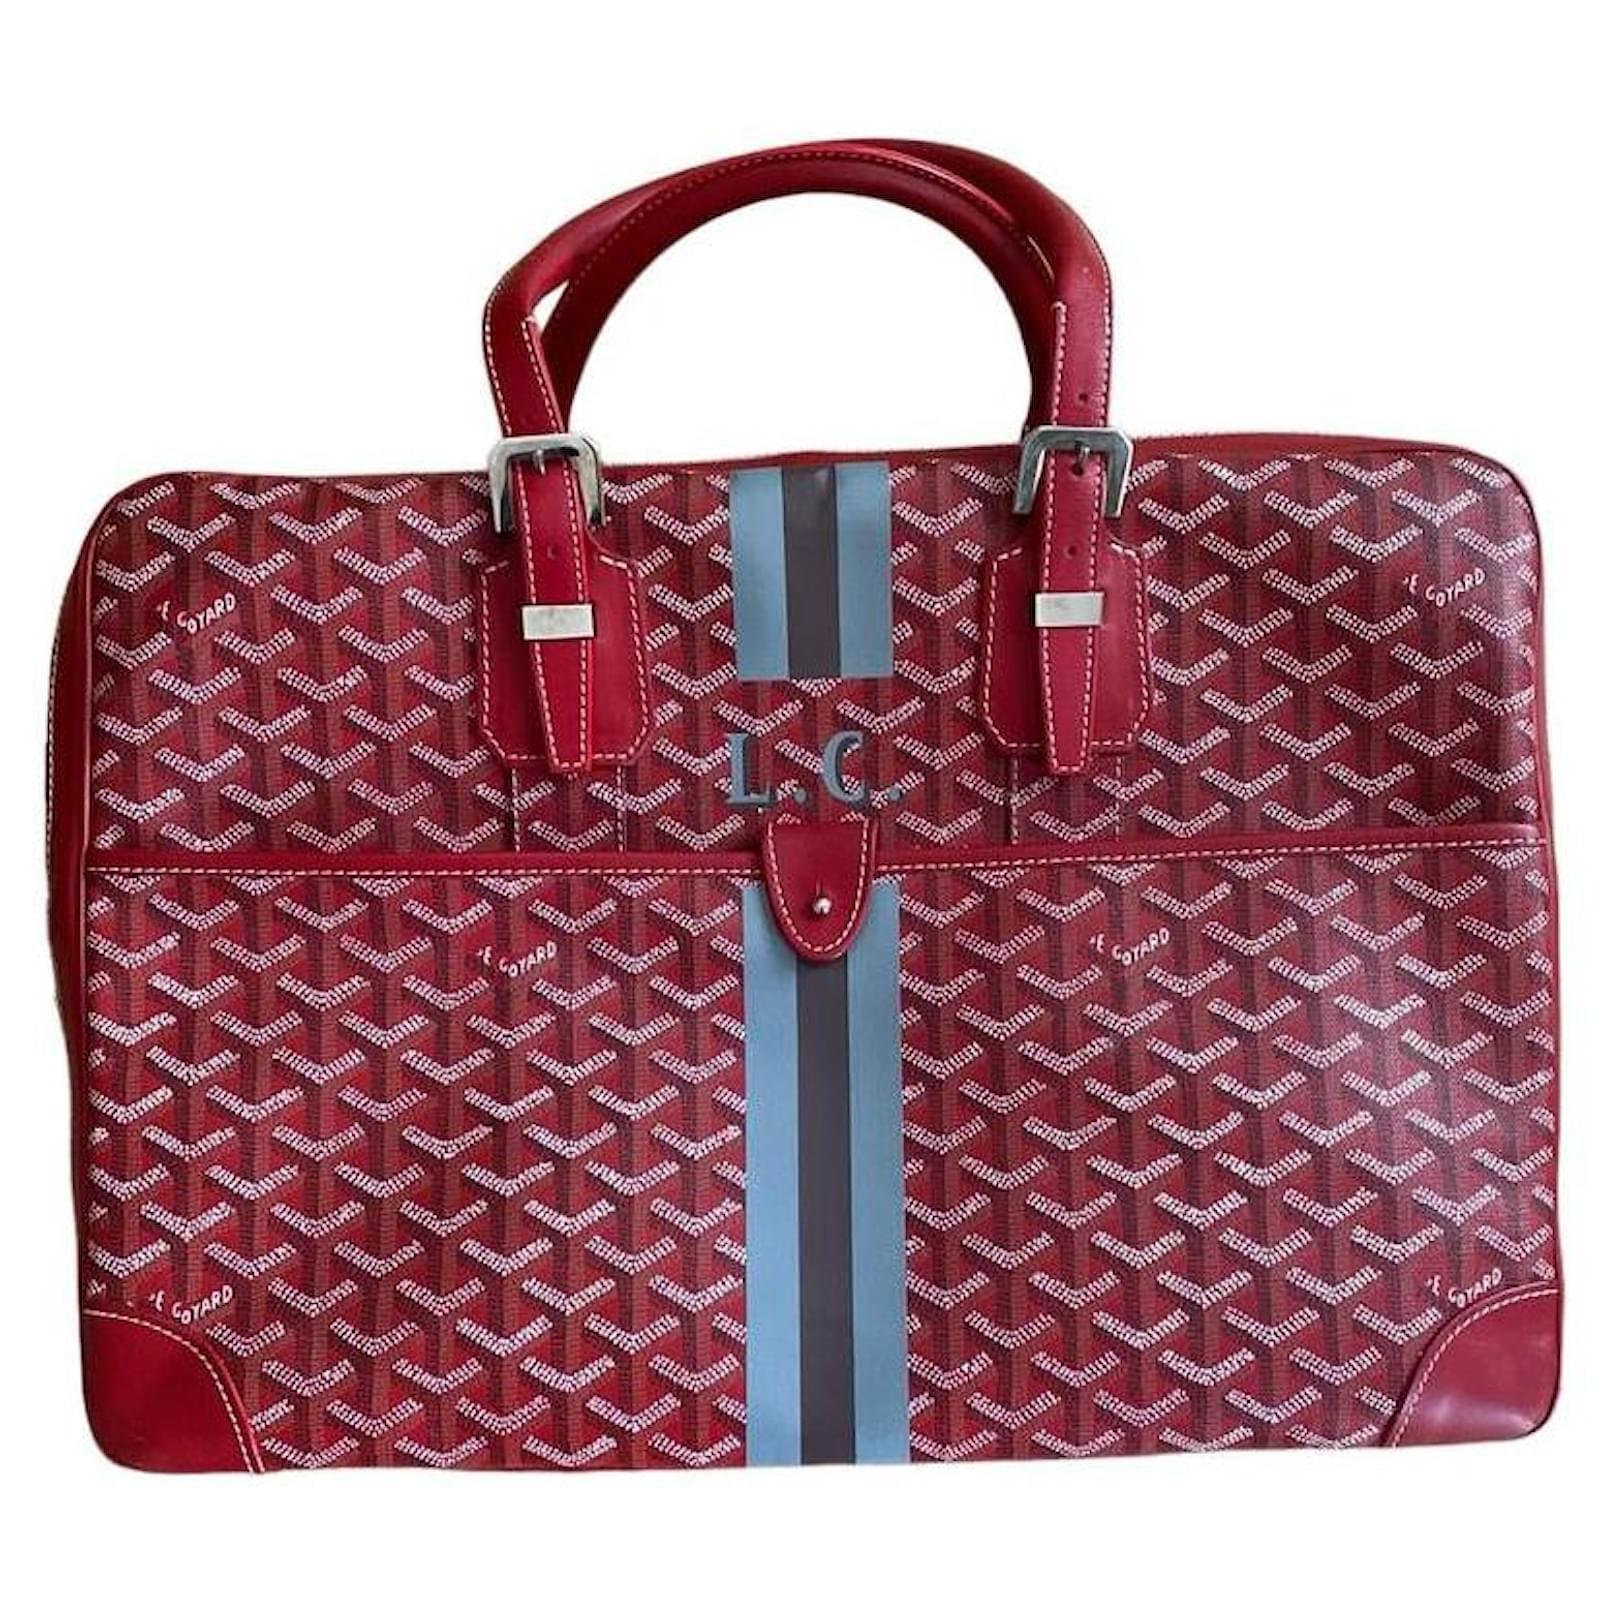GOYARD: (94, 453, 1555, 1470)
